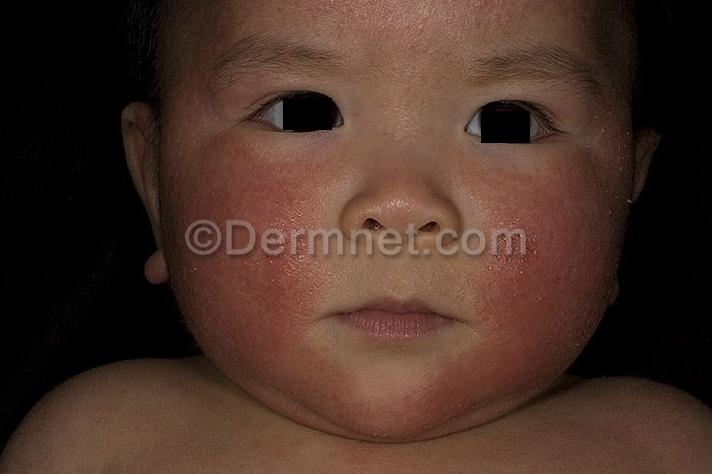eritema 3: (162, 126, 634, 431)
xerosis 1: (564, 107, 630, 353)
